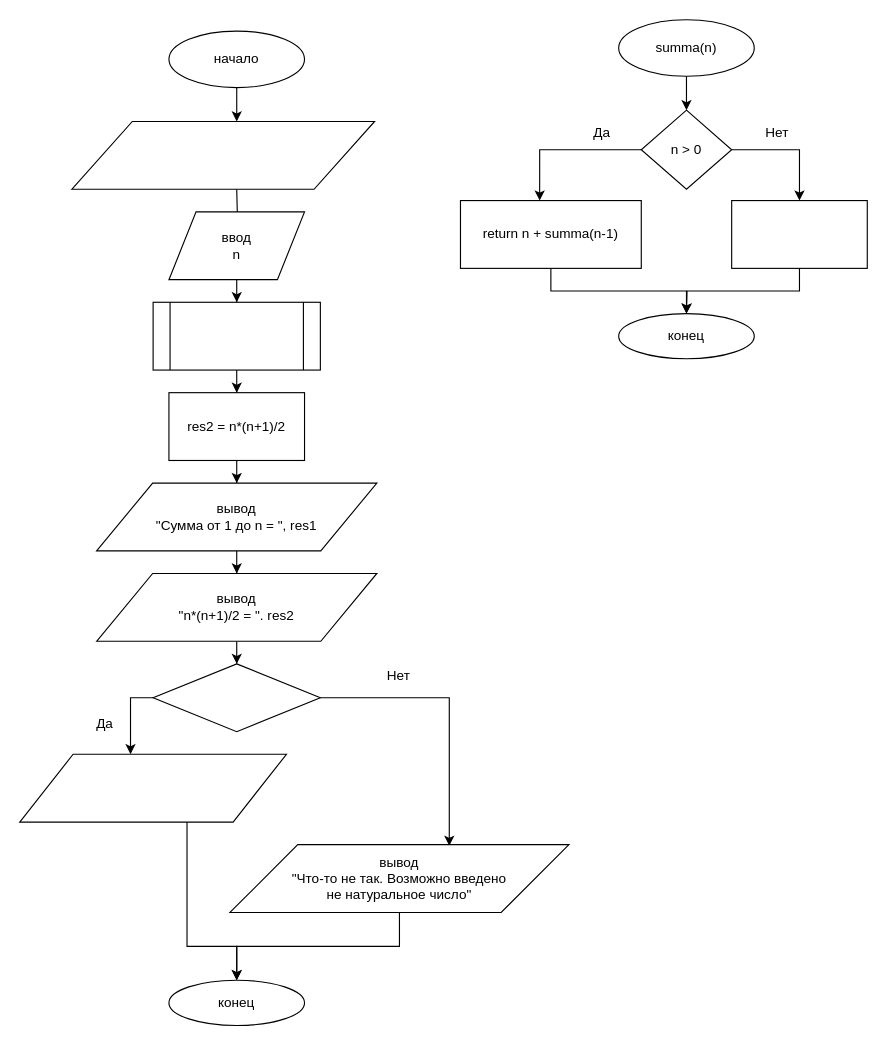
This 887x1045 diagram has some shape labels left out. The shapes that lost their labels are listed below. From the top down, each one's box as (x1, y1, x2, y2) in pixels, then its label:
(71, 120, 375, 189): вывод введите натуральное число
(731, 199, 867, 268): return 0
(152, 301, 320, 370): res1 = summa(n)
(152, 663, 320, 732): res1 == res2
(19, 753, 286, 822): вывод "Результат обоих способов подсчета одинаков"
